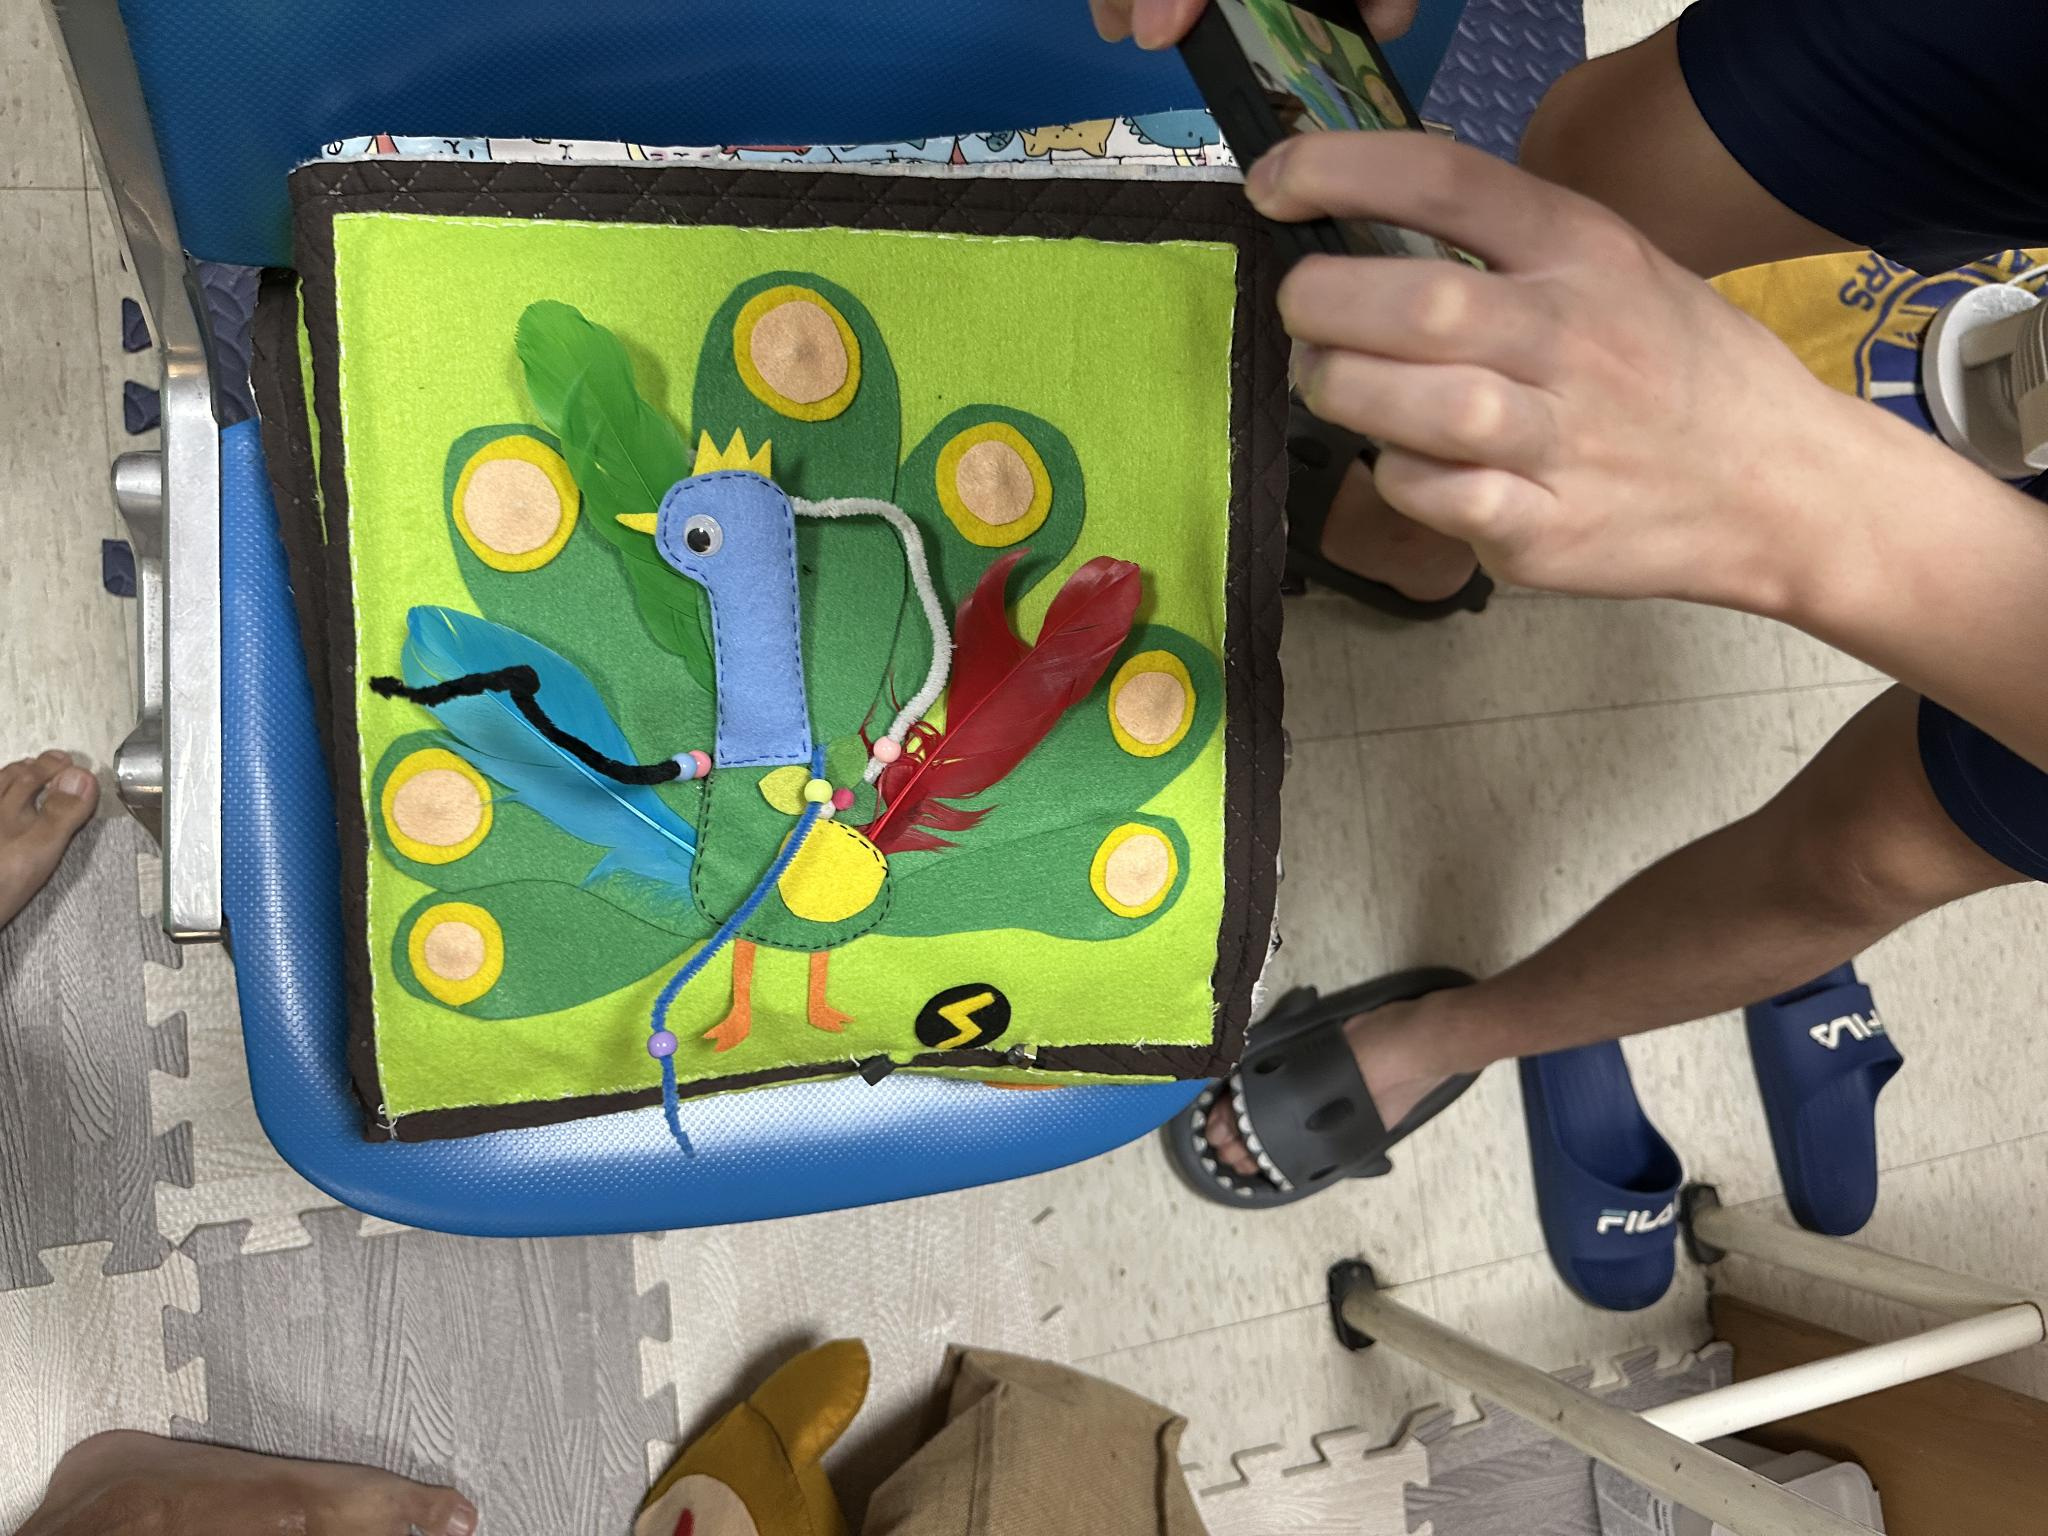bead: (639, 1028, 684, 1062), (801, 776, 839, 803), (871, 734, 900, 762), (674, 745, 692, 783), (692, 750, 713, 781)
